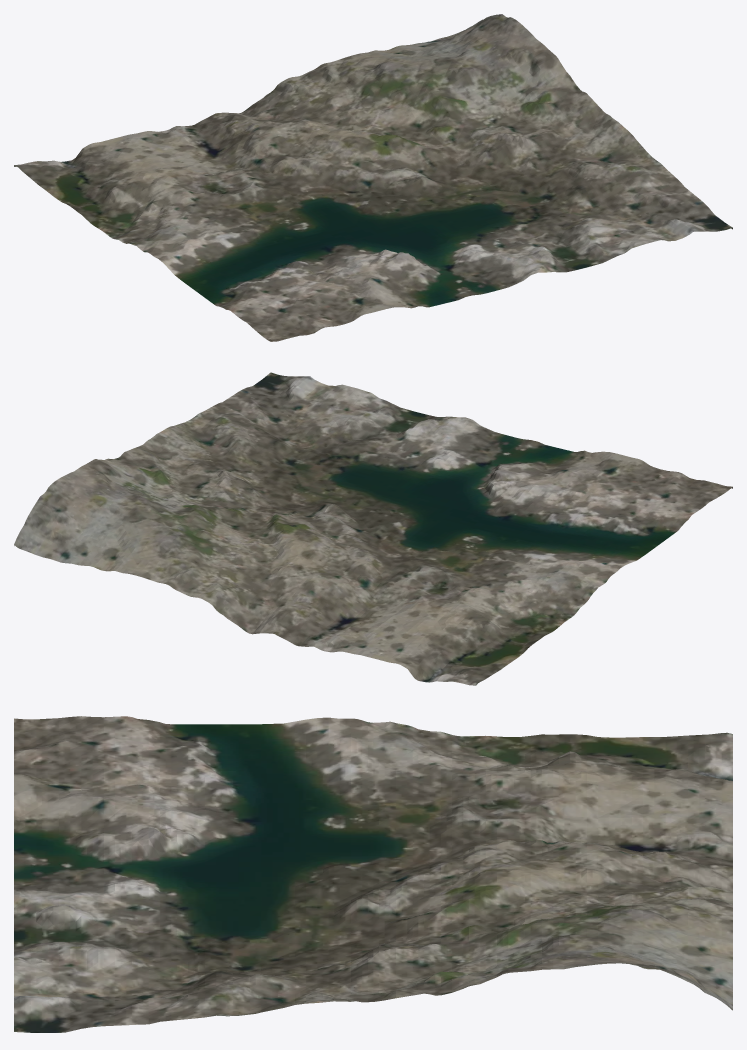
3 renders of one model, top to bottom at view 1: azimuth 30°, elevation 25°; view 2: azimuth 150°, elevation 25°; view 3: azimuth 270°, elevation 25°, orthographic. The views are drawn at different scales.
Bounding box in the file's own units: 250 × 37.69 × 241.
Materials: 1 (1 with a texture image).
